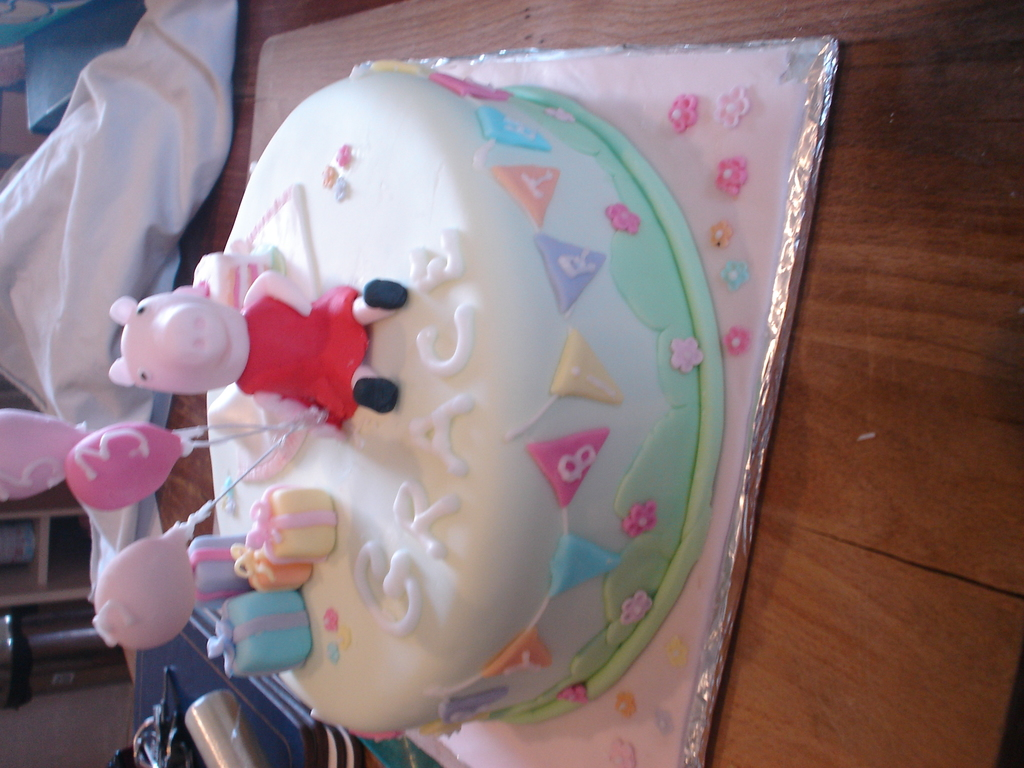cake: (210, 56, 730, 743)
